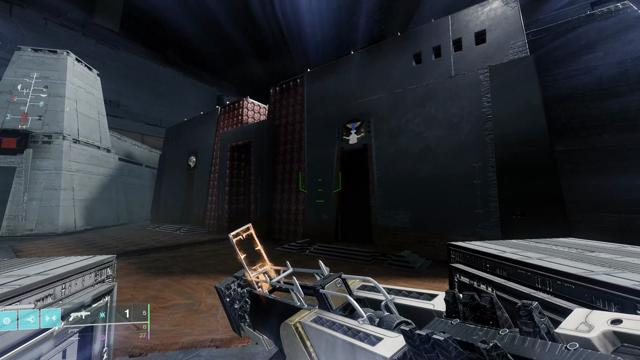brain: (187, 154, 197, 169)
drink: (341, 118, 366, 145)
stop: (0, 131, 23, 153)
